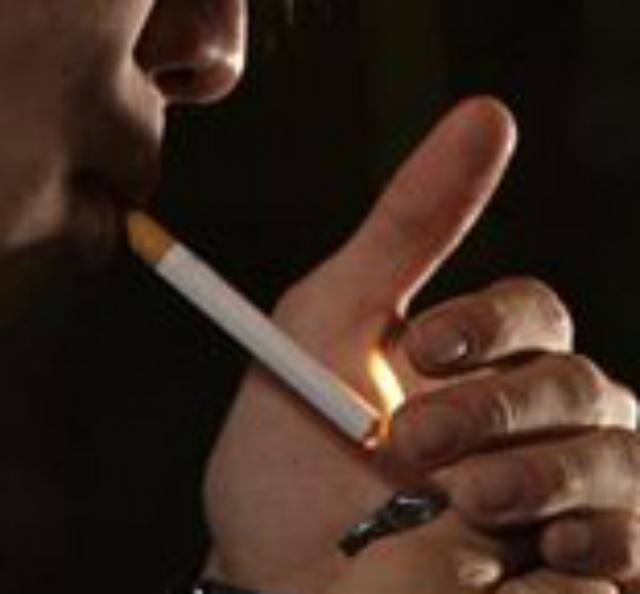Cigarette: (113, 195, 387, 447)
